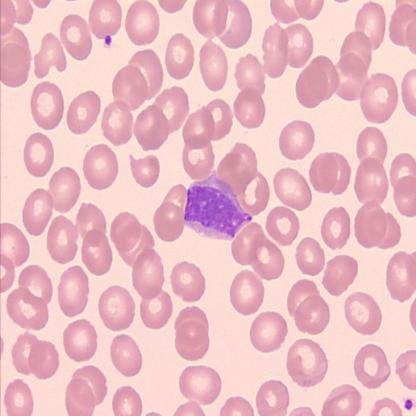Metamyelocyte: (181, 169, 252, 242)
